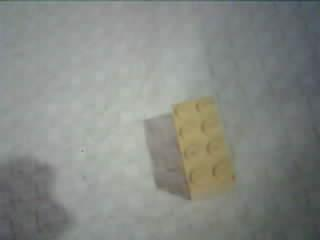lego: (168, 95, 242, 202)
